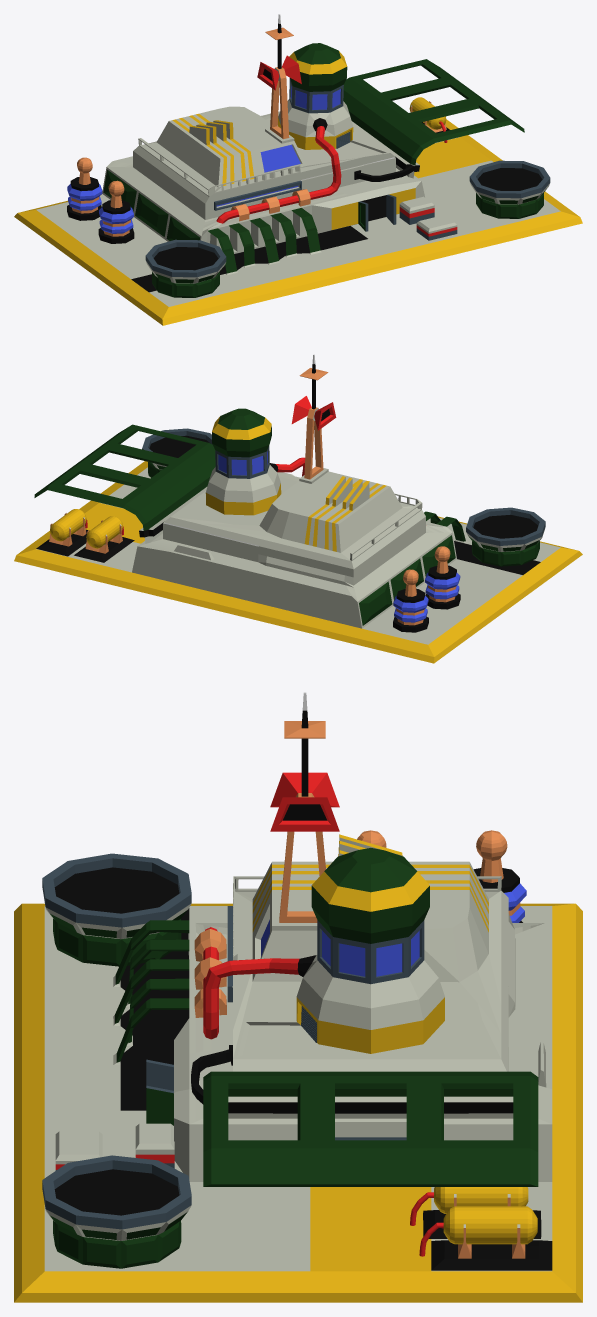
The model's file is _ase 1.1.fbx.
3 renders of one model, top to bottom at view 1: azimuth 30°, elevation 25°; view 2: azimuth 150°, elevation 25°; view 3: azimuth 270°, elevation 25°, orthographic. The views are drawn at different scales.
Parts seen in each view (by area): view 1: base; view 2: base; view 3: base.
Part boxes in pixels (left/top/right/bottom): base: left=14, top=14, right=582, bottom=325; base: left=14, top=354, right=582, bottom=663; base: left=14, top=692, right=582, bottom=1302.
Bounding box in the file's own units: 9222 × 4376 × 5667.
